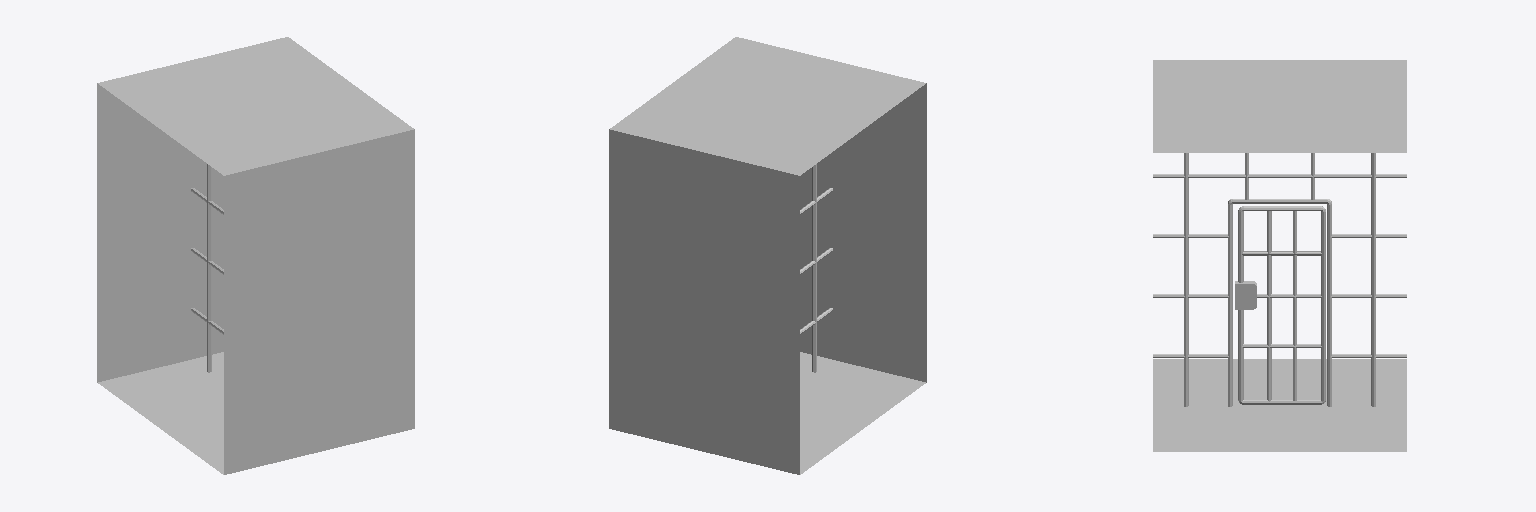
The model's file is hor1 corr2 gate.obj.
3 views of the same model, side by side, from view 1: azimuth 30°, elevation 25°; view 2: azimuth 150°, elevation 25°; view 3: azimuth 270°, elevation 25° (orthographic).
Visible parts, largest first — view 1: corr2_gate_Circle; view 2: corr2_gate_Circle; view 3: corr2_gate_Circle.
Boxes of the visible parts, x1=… form: corr2_gate_Circle: x1=97, y1=37, x2=414, y2=474; corr2_gate_Circle: x1=609, y1=37, x2=926, y2=474; corr2_gate_Circle: x1=1153, y1=60, x2=1406, y2=451.
Size of the model in its own units: 2 by 3 by 2.3.